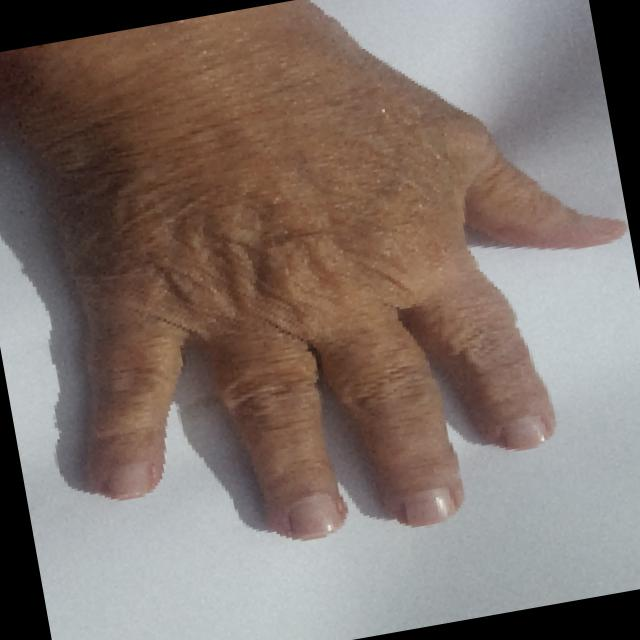Nail: (288, 493, 338, 540), (403, 486, 455, 526), (108, 461, 154, 500), (500, 415, 546, 449), (581, 215, 626, 231)
